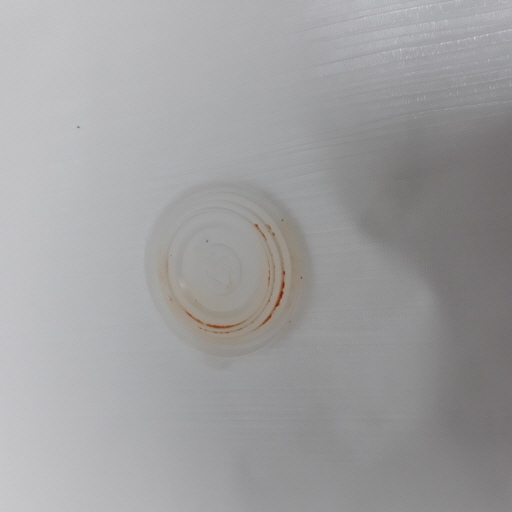Plastic_5: (141, 186, 312, 368)
